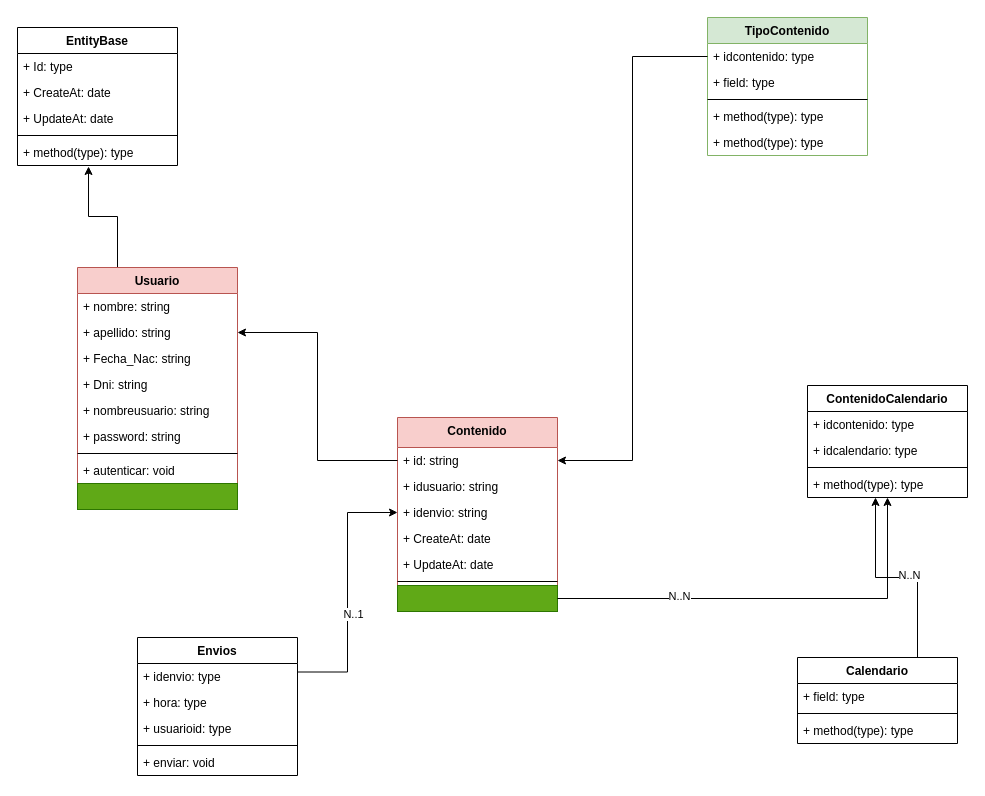
Some shapes in this 985 by 796 pixel diagram are drawn without their labels. The shapes that lost their labels are listed below. From the top down, each one's centre as x and y in pixels, then its label:
At point 157,496: "+ guardar_vinculo: void".
At point 477,598: "+ guardar: void".
